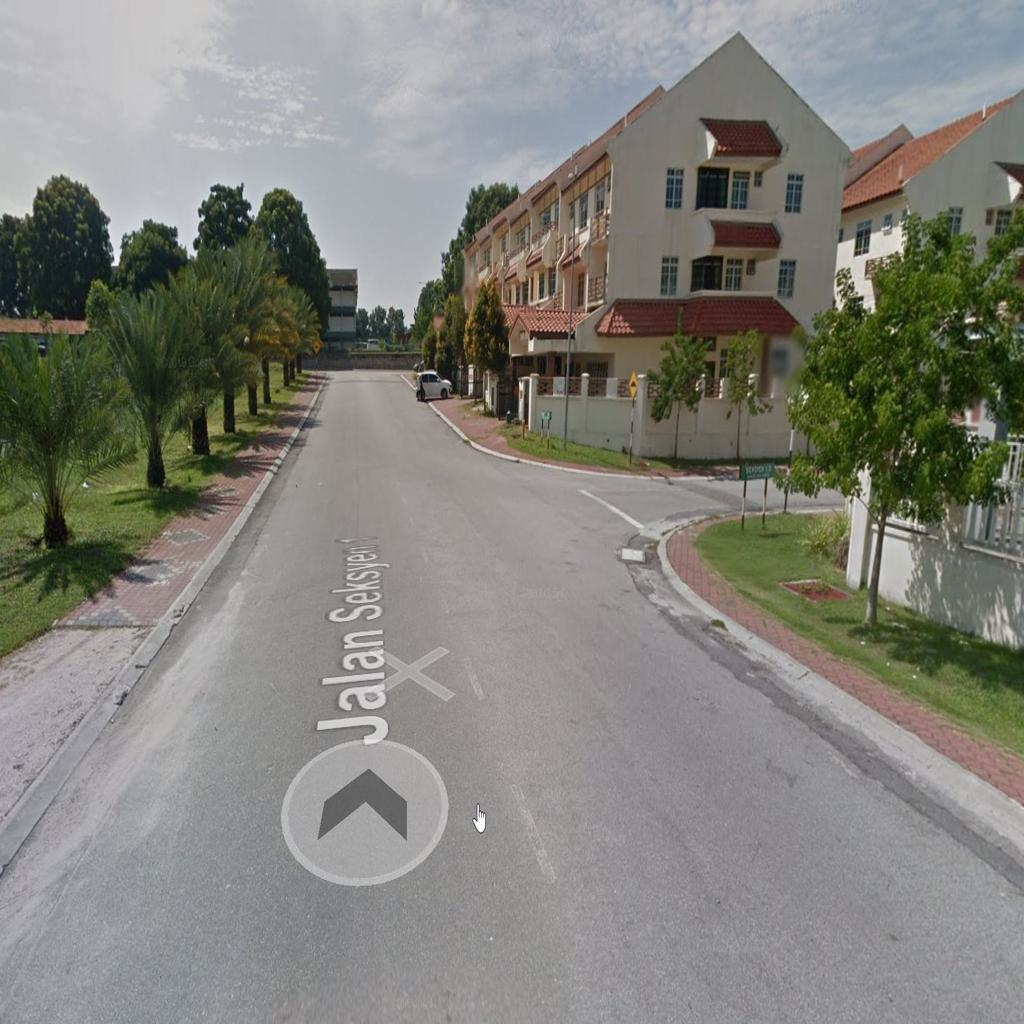Junction: (493, 427, 798, 613)
